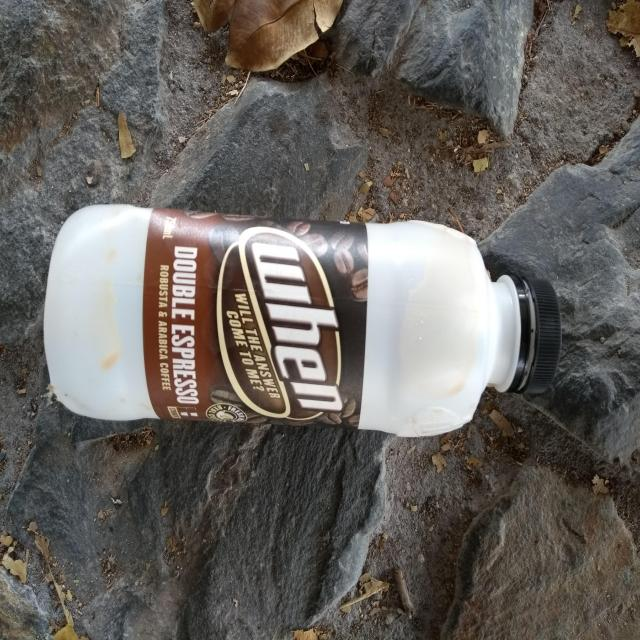Other plastic bottle: (44, 205, 562, 437)
Plastic bottle cap: (516, 277, 562, 393)
